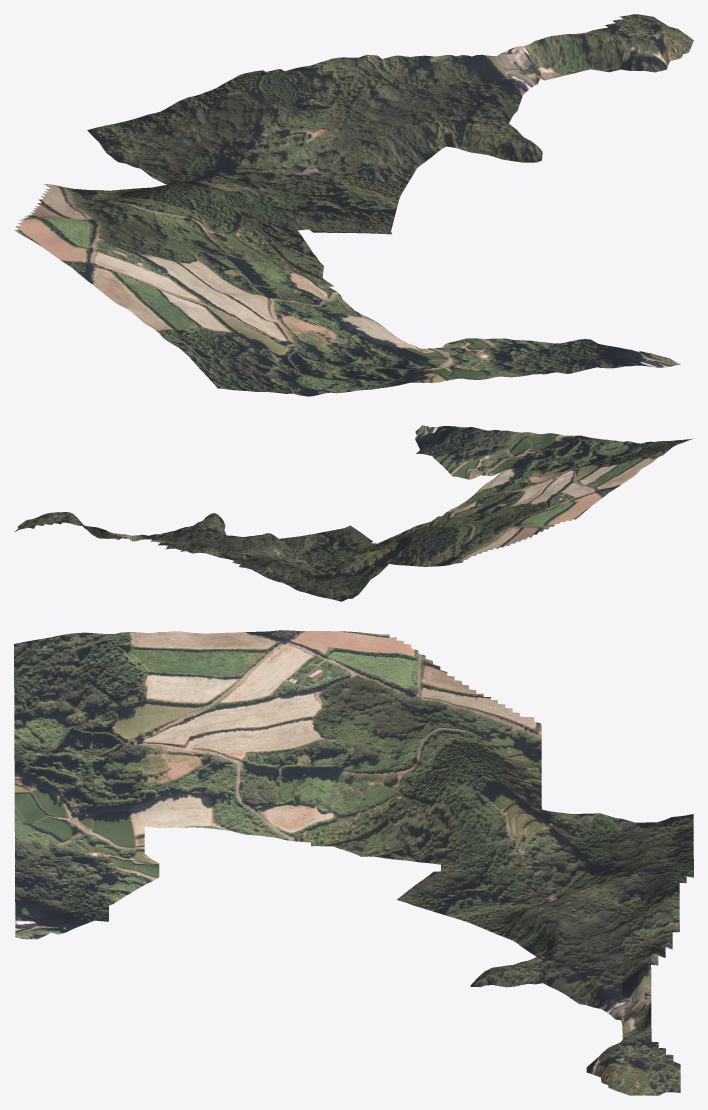
File: sub_terrain.fbx
The picture shows the model from 3 angles, top to bottom: view 1: azimuth 30°, elevation 25°; view 2: azimuth 150°, elevation 25°; view 3: azimuth 270°, elevation 25°; orthographic projection. The views are drawn at different scales.
Parts seen in each view (by area): view 1: sub8, sub11, sub0, sub2, sub9, sub5, sub4, sub1, sub10, sub7, sub3, sub6; view 2: sub3, sub8, sub7, sub4, sub0, sub2, sub5, sub6, sub9, sub1, sub11, sub10; view 3: sub0, sub2, sub5, sub3, sub8, sub1, sub7, sub4, sub11, sub10, sub6, sub9.
Part boxes in pixels (box(x1,y1,x2,y2)): sub8: box(200, 90, 446, 234); sub11: box(372, 14, 693, 90); sub0: box(150, 232, 391, 332); sub2: box(42, 244, 282, 341); sub9: box(161, 54, 403, 151); sub5: box(100, 171, 312, 254); sub4: box(268, 326, 476, 391); sub1: box(147, 324, 352, 396); sub10: box(404, 74, 542, 162); sub7: box(408, 338, 680, 379); sub3: box(14, 181, 195, 251); sub6: box(87, 111, 218, 184); sub3: box(389, 504, 591, 566); sub8: box(202, 525, 376, 580); sub7: box(415, 425, 540, 479); sub4: box(492, 433, 613, 479); sub0: box(401, 476, 563, 533); sub2: box(513, 461, 652, 508); sub5: box(333, 521, 495, 576); sub6: box(298, 542, 401, 601); sub9: box(184, 545, 320, 590); sub1: box(574, 438, 693, 471); sub11: box(15, 512, 200, 551); sub10: box(122, 513, 226, 545); sub0: box(173, 727, 390, 858); sub2: box(144, 630, 339, 739); sub5: box(390, 723, 585, 864); sub3: box(339, 631, 541, 809); sub8: box(397, 856, 621, 957); sub1: box(14, 632, 144, 746); sub7: box(14, 813, 159, 939); sub4: box(14, 737, 173, 828); sub11: box(586, 927, 680, 1095); sub10: box(470, 939, 622, 1020); sub6: box(498, 790, 693, 863); sub9: box(621, 845, 693, 939).
Size of the model in its own units: 739 by 580 by 94.22.
